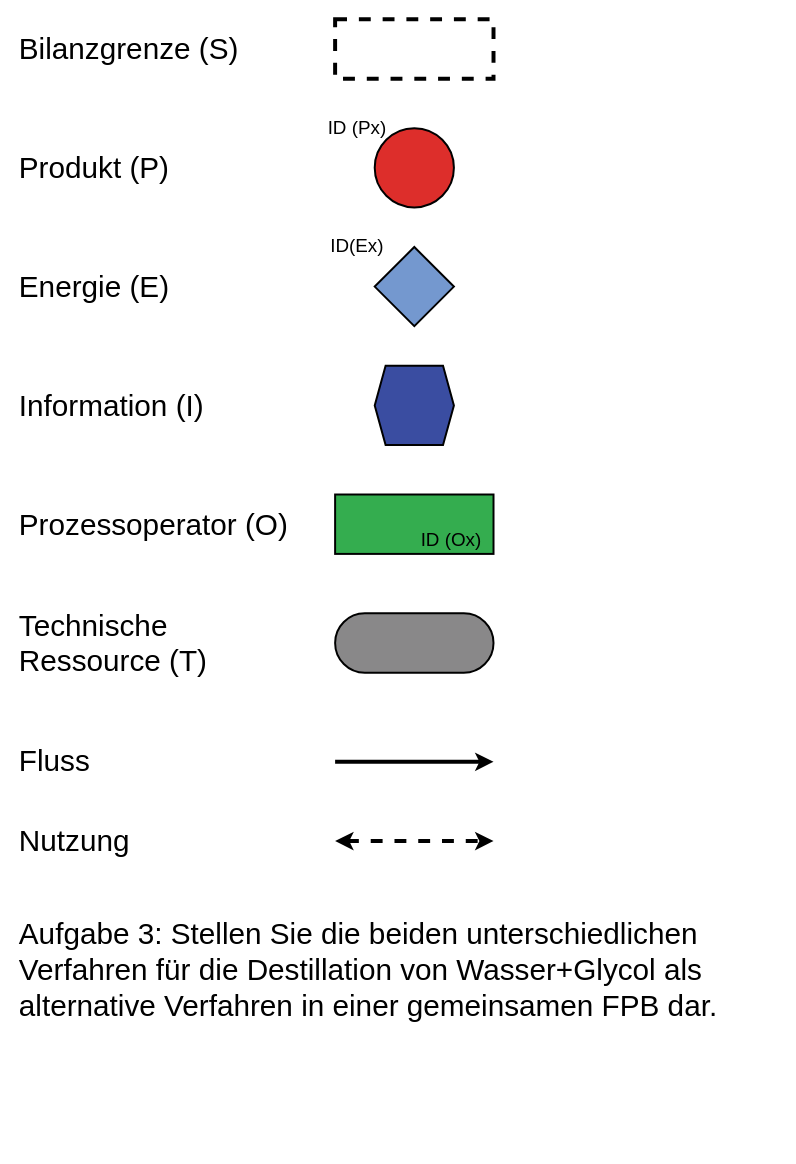
Image size: 796x1164. Some labels were removed from this diagram. The shapes that lost their labels are listed below. From the top down, each one's box as (x1, y1, x2, y2) in pixels, then its label:
(373, 364, 454, 446): ID (Ix)
(334, 612, 494, 673): ID (Tx)
